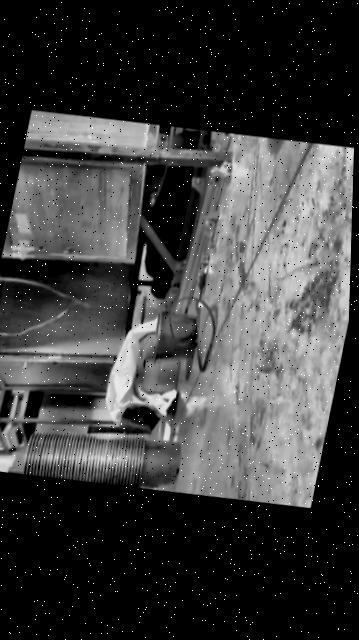pot: (121, 434, 183, 495), (147, 305, 200, 368)
